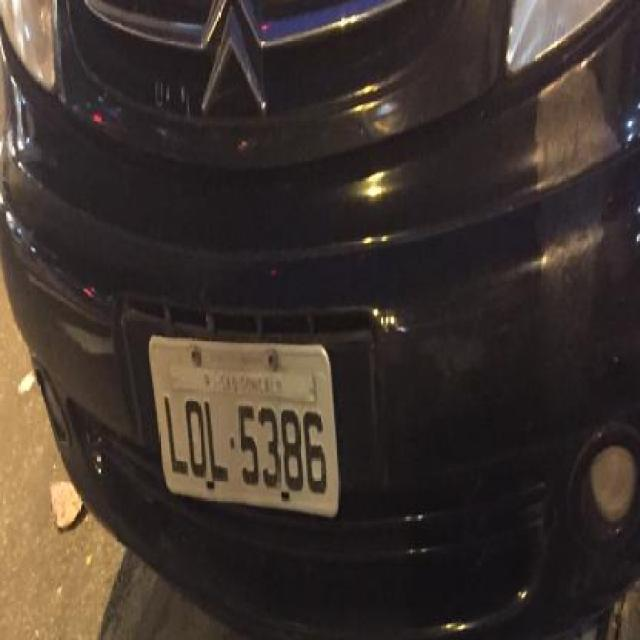old_plate: (141, 328, 350, 523)
